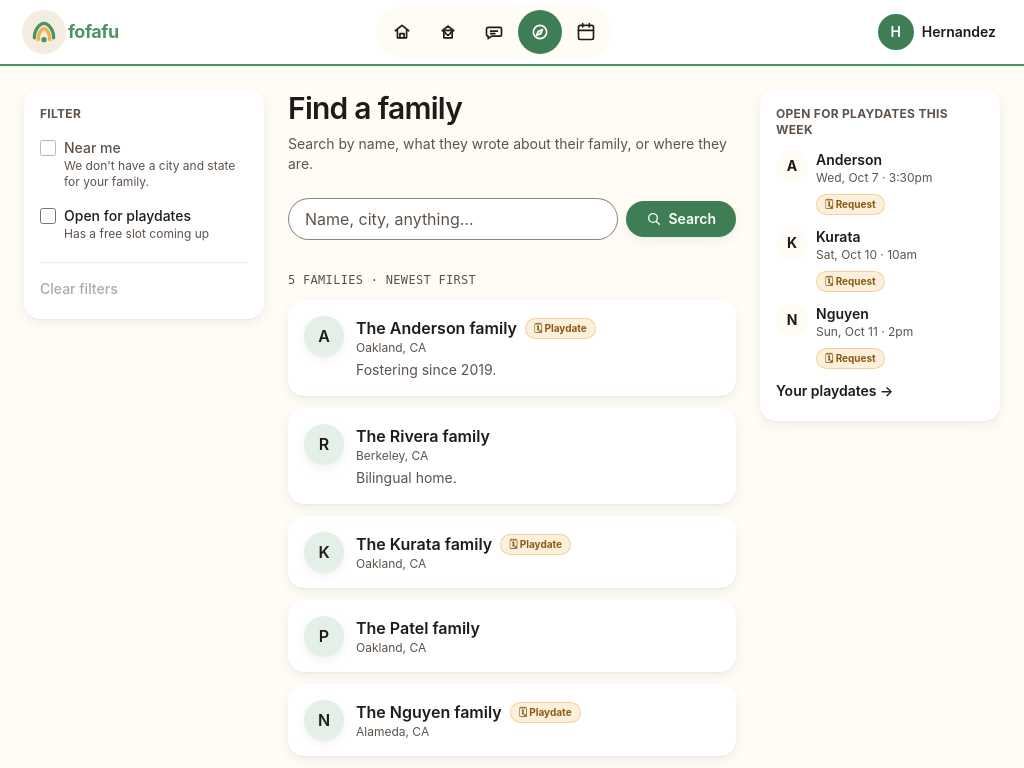
it: SearchPage structure › never repeats an id although both filter presentations are in the DOM
Type "a" into the field named "Search" at (453, 219), box [288,198,618,240]
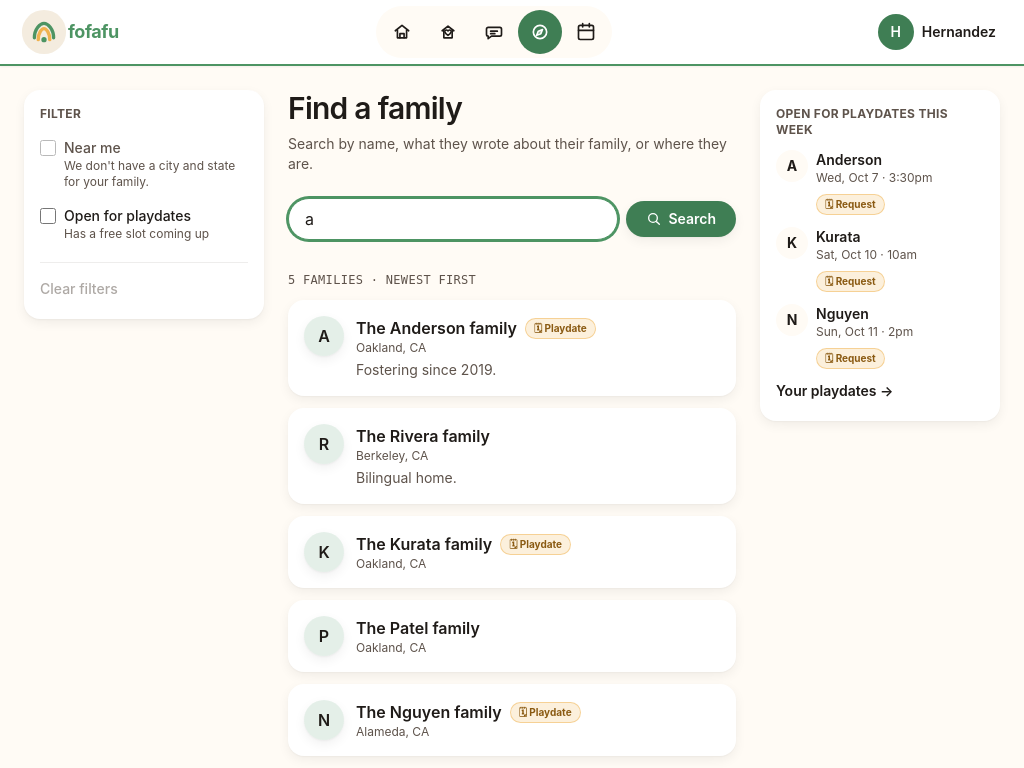
Click the button "Search" at (681, 219), box [626,201,736,237]
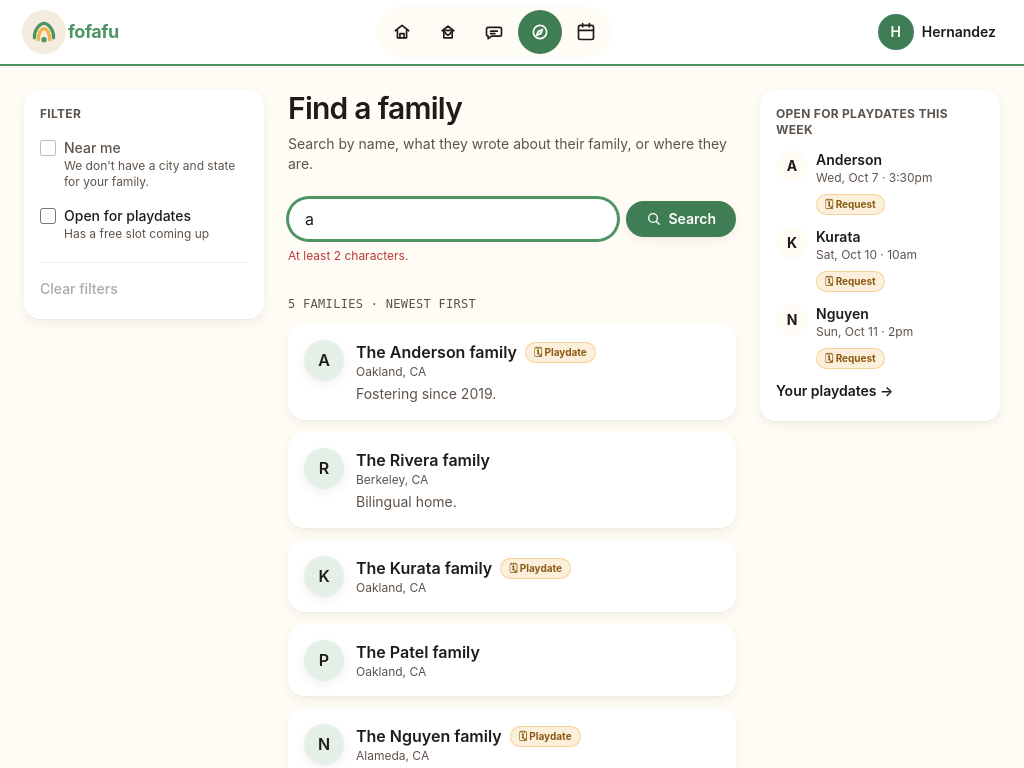
Check: the message "At least 2 characters." is shown, box [288,248,408,263]
